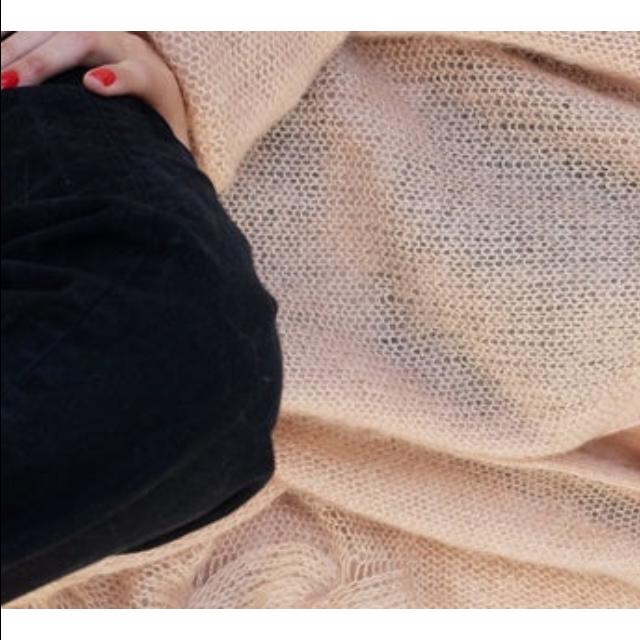wool: (270, 31, 640, 609)
